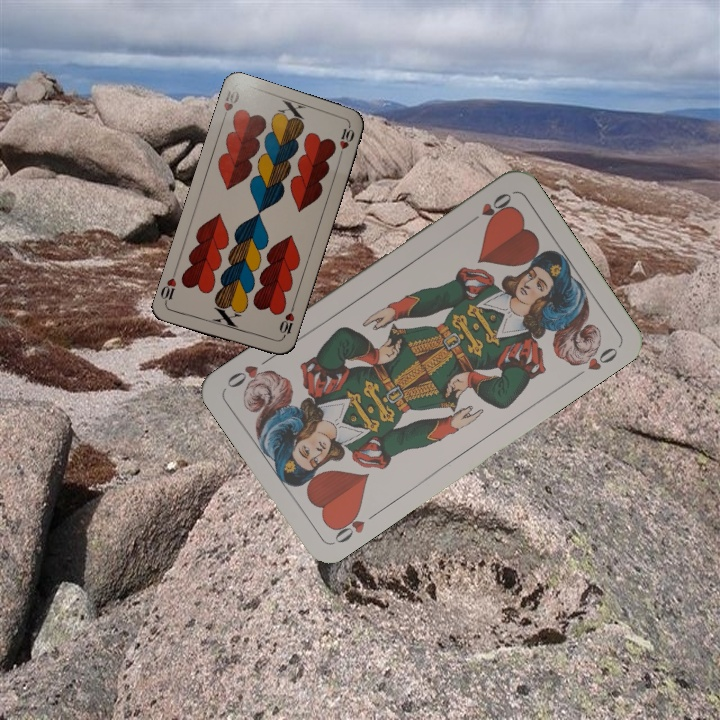H10: (218, 86, 242, 125), (275, 303, 297, 342)
HO: (327, 505, 381, 546), (463, 188, 515, 228)
